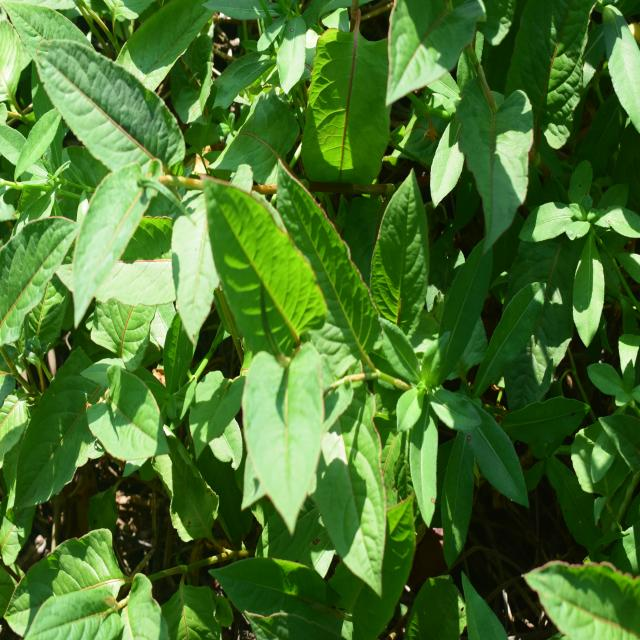Chinese_knotweed: (213, 165, 403, 571), (52, 44, 217, 344)
